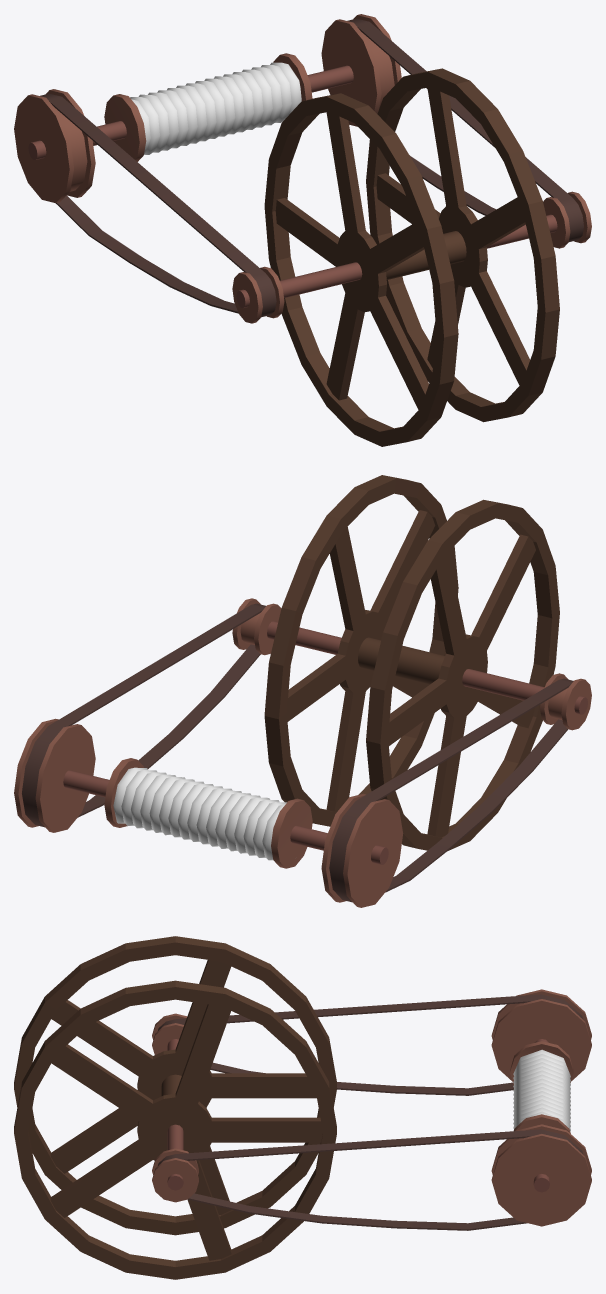
The model's file is ElevatorCoil_LP.fbx.
3 views of the same model, one above another, from view 1: azimuth 30°, elevation 25°; view 2: azimuth 150°, elevation 25°; view 3: azimuth 270°, elevation 25° (orthographic). The views are drawn at different scales.
Visible parts, largest first — view 1: ElevatorCoil_LP; view 2: ElevatorCoil_LP; view 3: ElevatorCoil_LP.
Part boxes in pixels (box(x1,y1,x2,y2)): ElevatorCoil_LP: box(14, 14, 591, 446); ElevatorCoil_LP: box(14, 475, 591, 907); ElevatorCoil_LP: box(14, 936, 591, 1279).
Size of the model in its own units: 737 by 653 by 1168.
